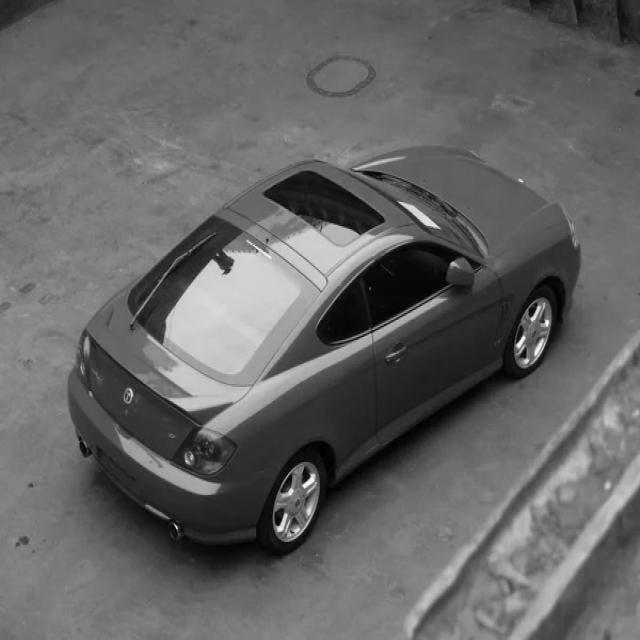Car: (68, 146, 582, 554)
